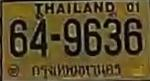3: (103, 18, 121, 55)
4: (30, 18, 46, 56)
6: (123, 17, 142, 54), (83, 17, 100, 55), (9, 19, 26, 56)
9: (63, 18, 80, 55)
BKK: (31, 62, 122, 79)
